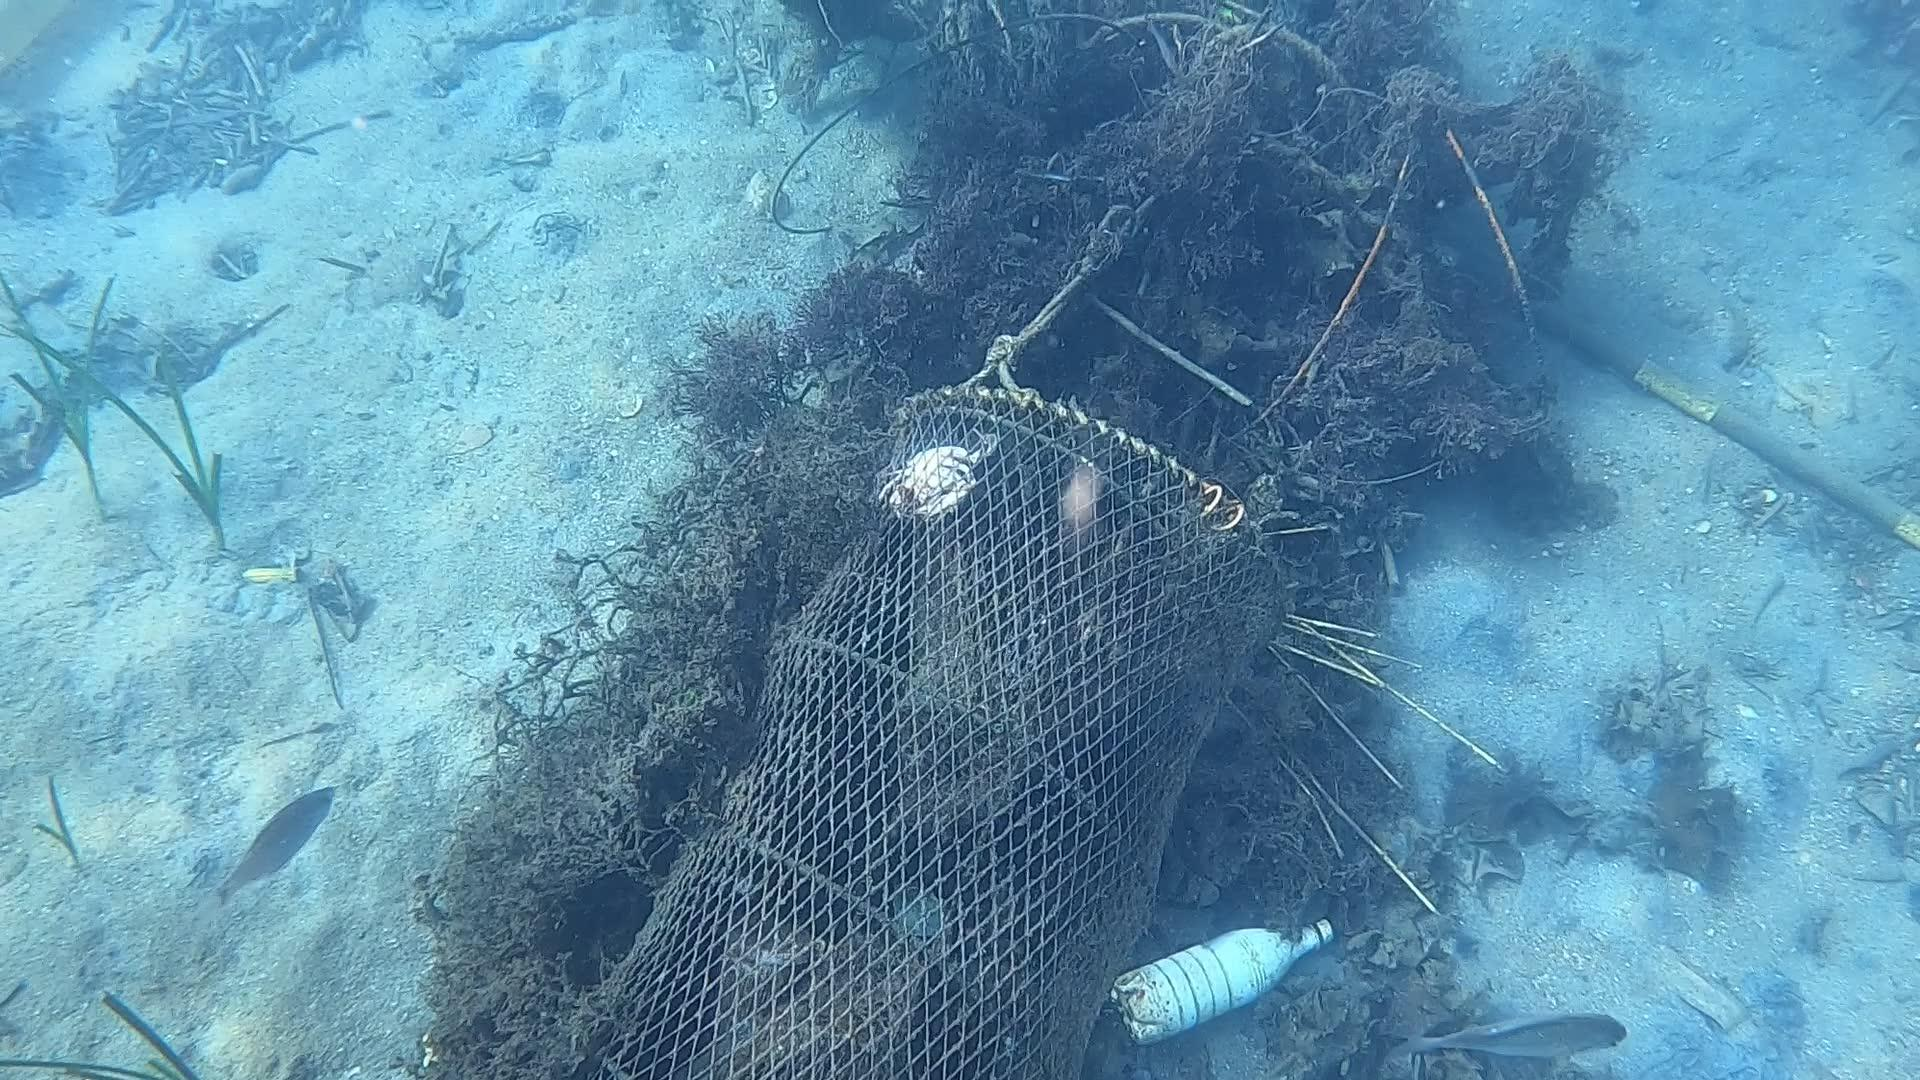bundle of ropes: (969, 202, 1135, 382)
spring fish trap: (558, 382, 1280, 1080)
